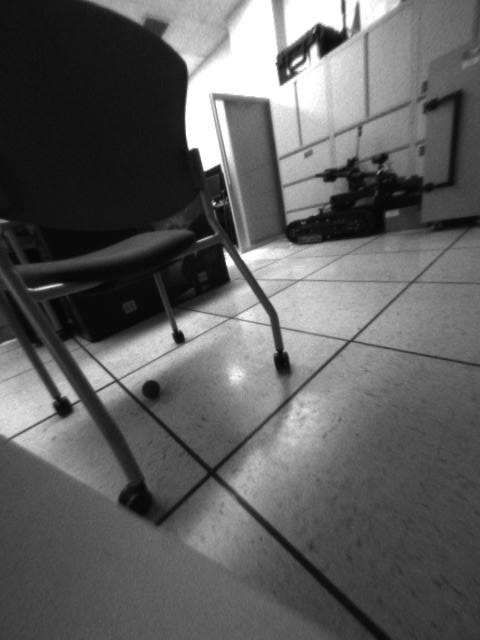dogtoy: (135, 375, 169, 403)
